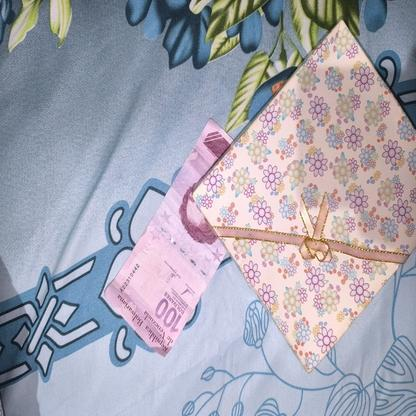one_hundred-front-vef: (102, 116, 235, 357)
